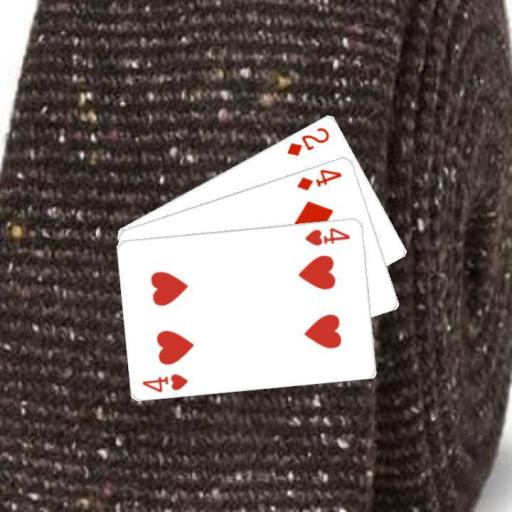2D: (284, 123, 331, 157)
4D: (294, 166, 344, 192)
4H: (139, 371, 190, 394), (303, 224, 352, 247)
